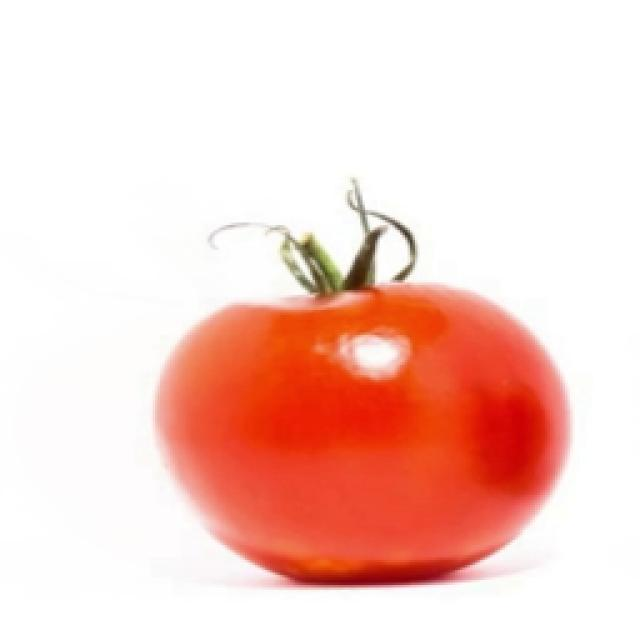tomato: (152, 282, 573, 586)
